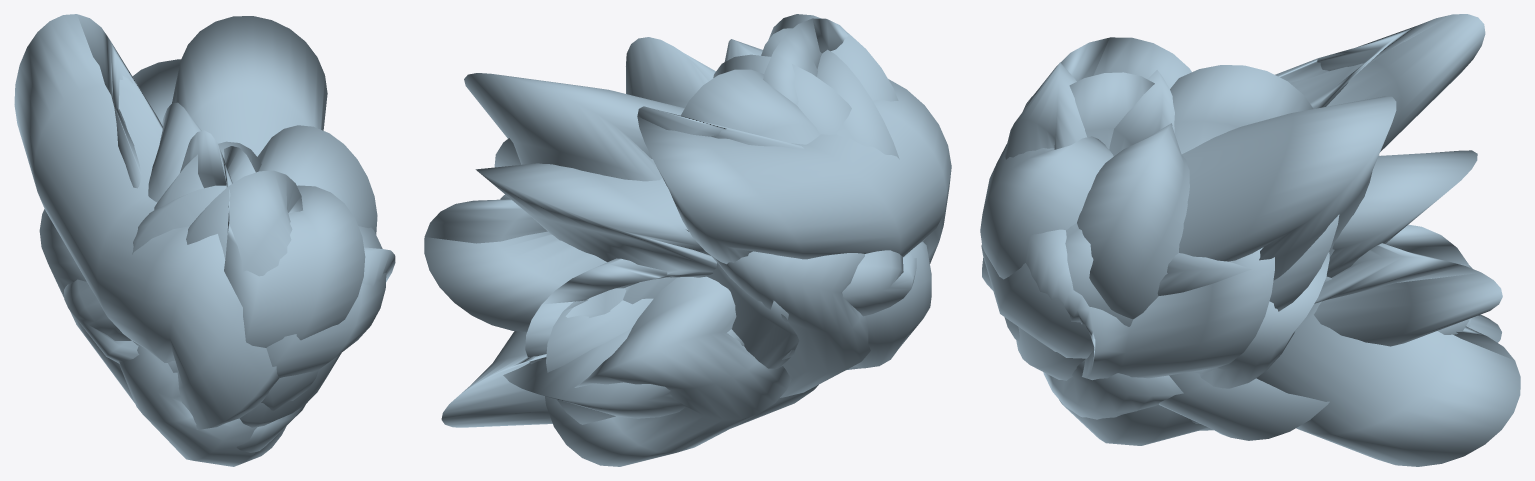
The picture shows the model from 3 angles, left to right: view 1: azimuth 30°, elevation 25°; view 2: azimuth 150°, elevation 25°; view 3: azimuth 270°, elevation 25°; orthographic projection. The views are drawn at different scales.
Visible parts, largest first — view 1: SE_E; view 2: SE_E; view 3: SE_E.
Part boxes in pixels (x1,y1,x2,y2): SE_E: (14,14,395,466); SE_E: (424,14,951,466); SE_E: (980,14,1520,466).
Size of the model in its own units: 12.31 by 13.44 by 16.1.
